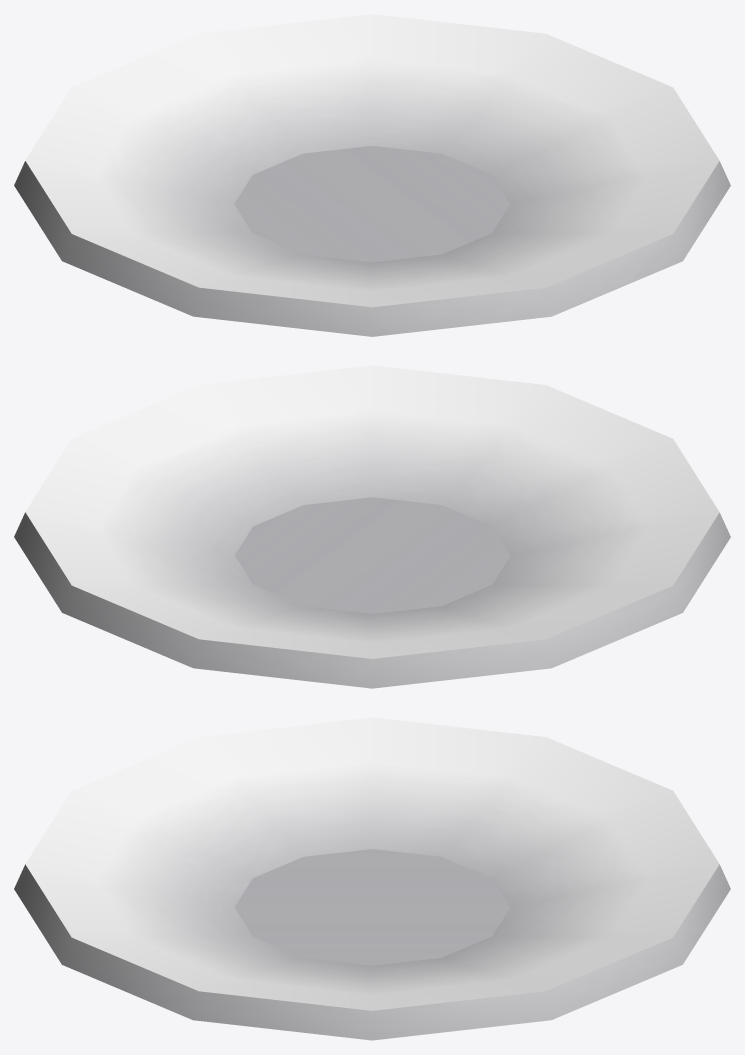
Rendered from m_SmallSaucer01.fbx.
3 renders of one model, top to bottom at view 1: azimuth 30°, elevation 25°; view 2: azimuth 150°, elevation 25°; view 3: azimuth 270°, elevation 25°, orthographic.
Parts seen in each view (by area): view 1: m_SmallSaucer01; view 2: m_SmallSaucer01; view 3: m_SmallSaucer01.
Boxes of the visible parts, bbox=[...] form: m_SmallSaucer01: bbox=[14, 14, 730, 336]; m_SmallSaucer01: bbox=[14, 365, 730, 688]; m_SmallSaucer01: bbox=[14, 717, 730, 1040].
Bounding box in the file's own units: 16.74 × 1.87 × 16.74.
